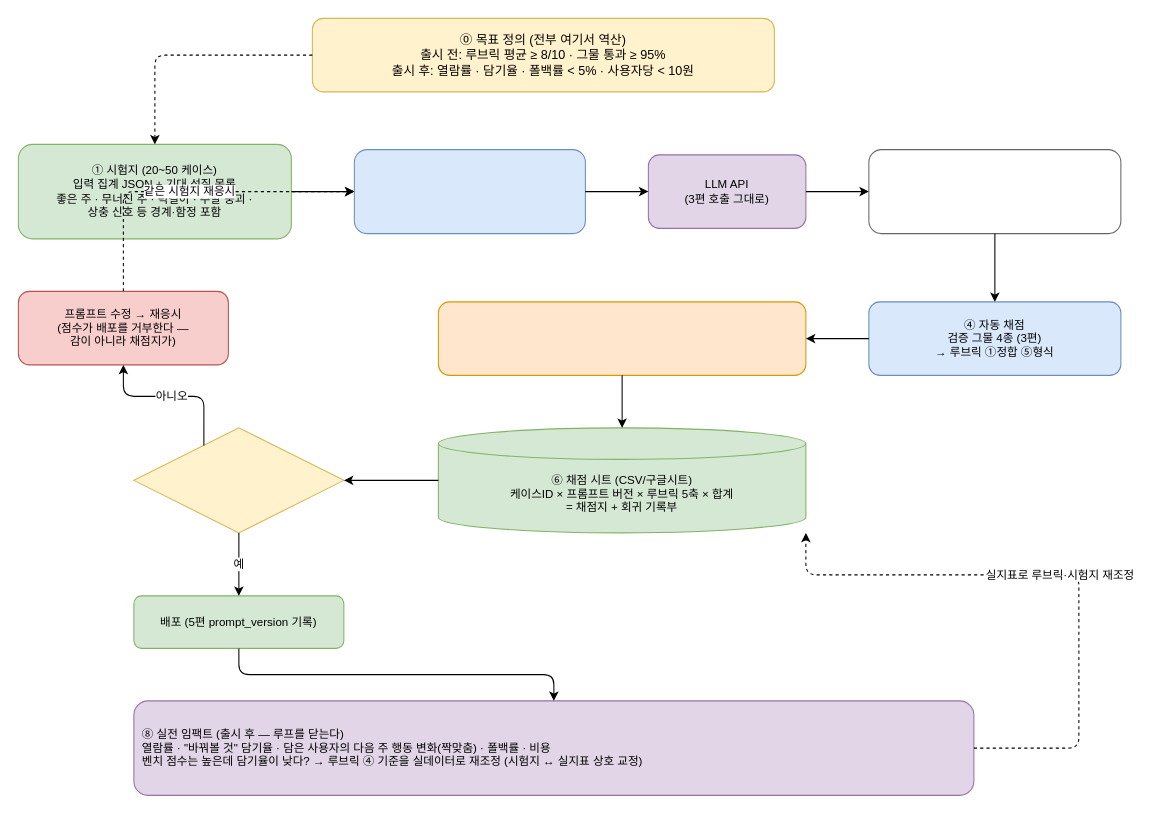
This 1152x814 diagram has some shape labels left out. Each missing label, with the centre of its shape:
"② 러너 = 배치 dry-run 모드 (전처리는 집계 SQL이 이미 수행) 프롬프트 vN으로 호출" belongs at (x=469, y=191).
"③ JSON 파싱 · 후처리 (출력 계약을 좁게 설계해 얇음 — 장문 응답이 생기면 파서 층 추가)" belongs at (x=994, y=191).
"⑤ 사람 채점 (루브릭 ②근거 ③어조 ④실행가능성) LLM-as-judge는 보조만 — 심판도 LLM이면 편향 공유" belongs at (x=621, y=338).
"⑦ 회귀 판정 vN+1 점수 ≥ vN ?" belongs at (x=238, y=480).
